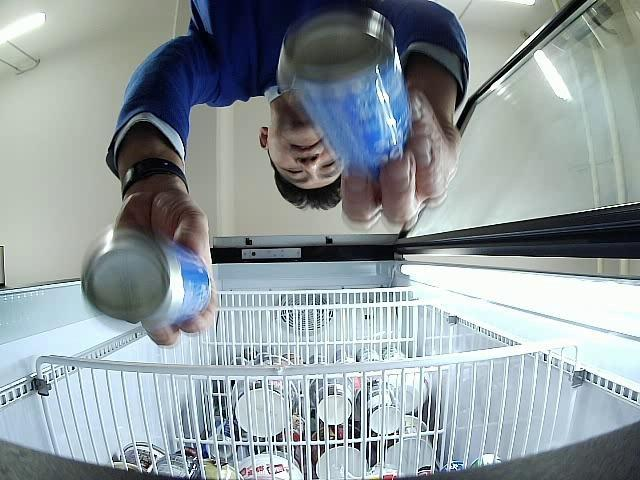15_letsbe: (280, 9, 410, 177), (83, 228, 211, 330)
